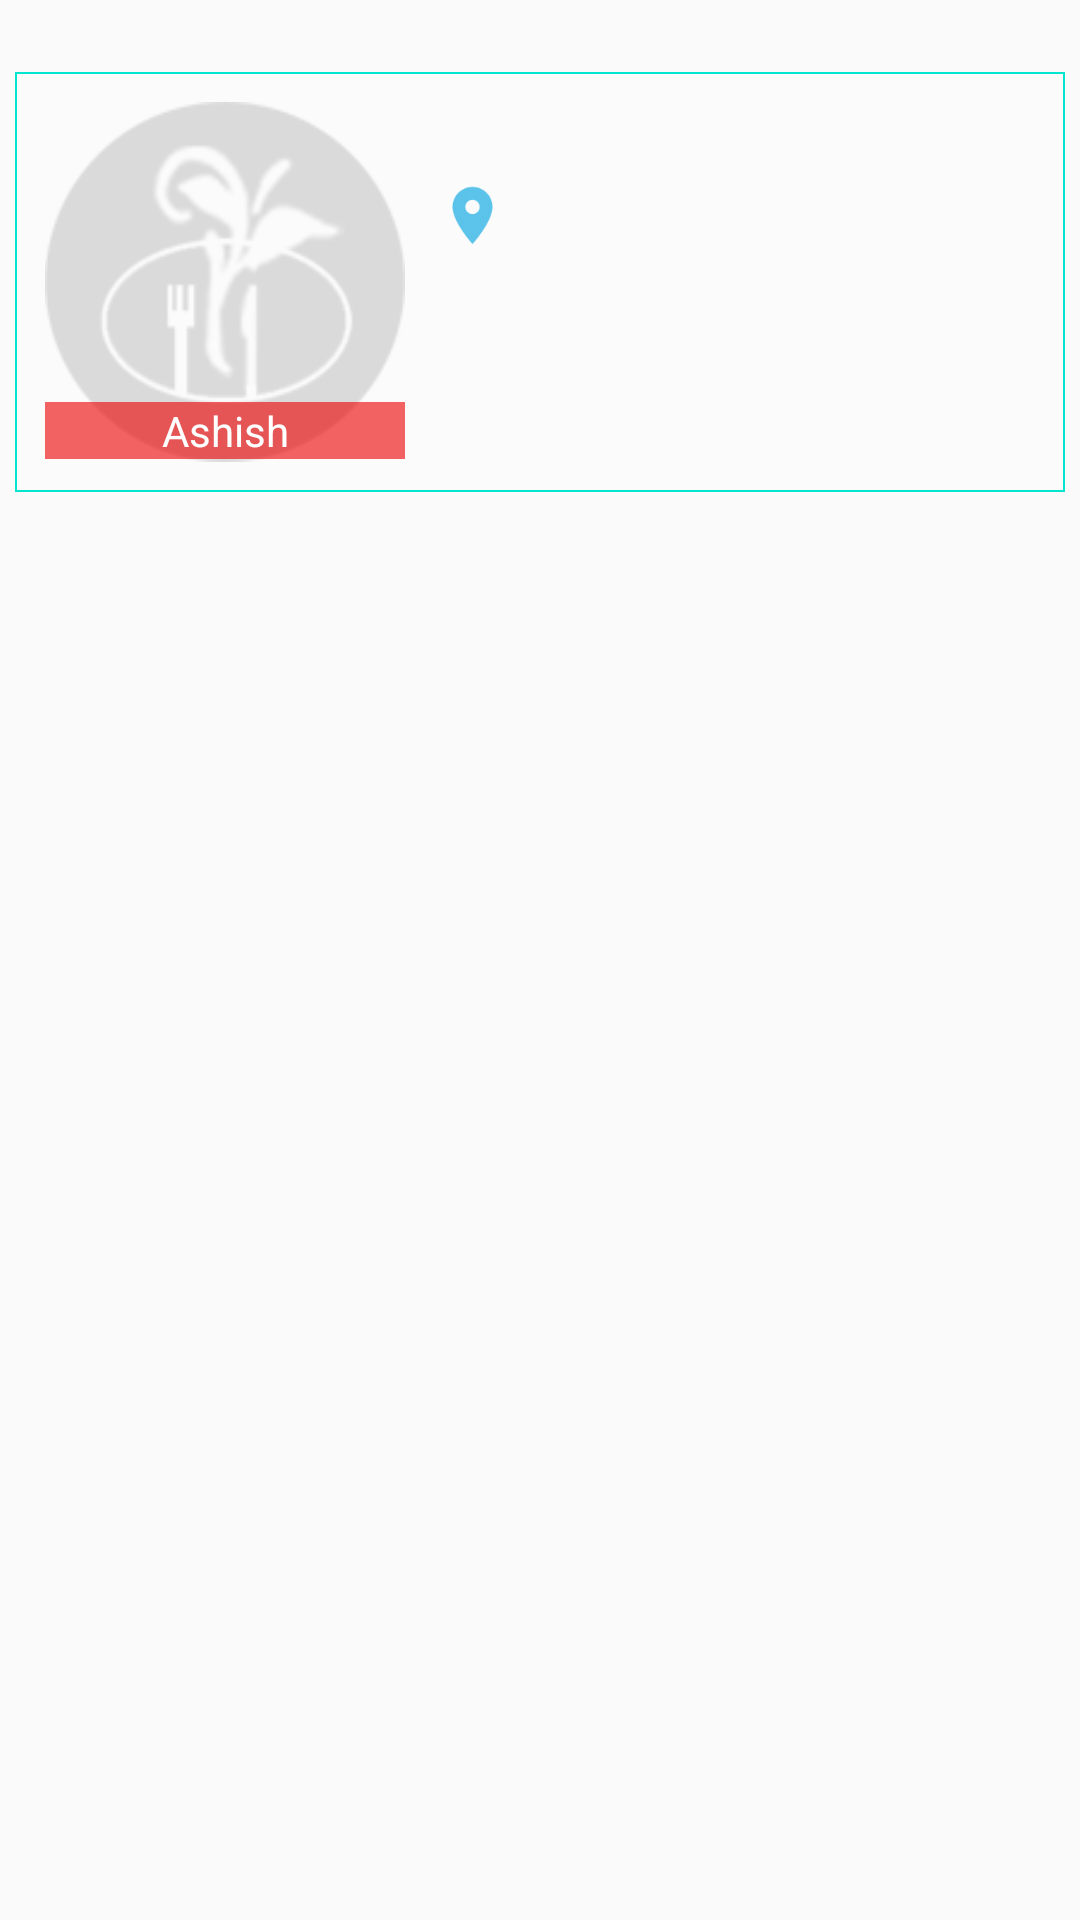

Icon click points for this 1080 × 1920 phone screenshot, format (x=x, y=y):
address: (x=472, y=215)
